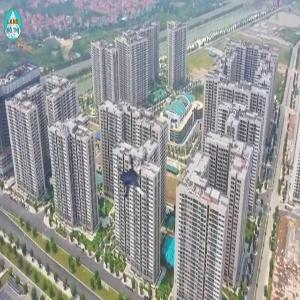drone: (103, 152, 164, 213)
